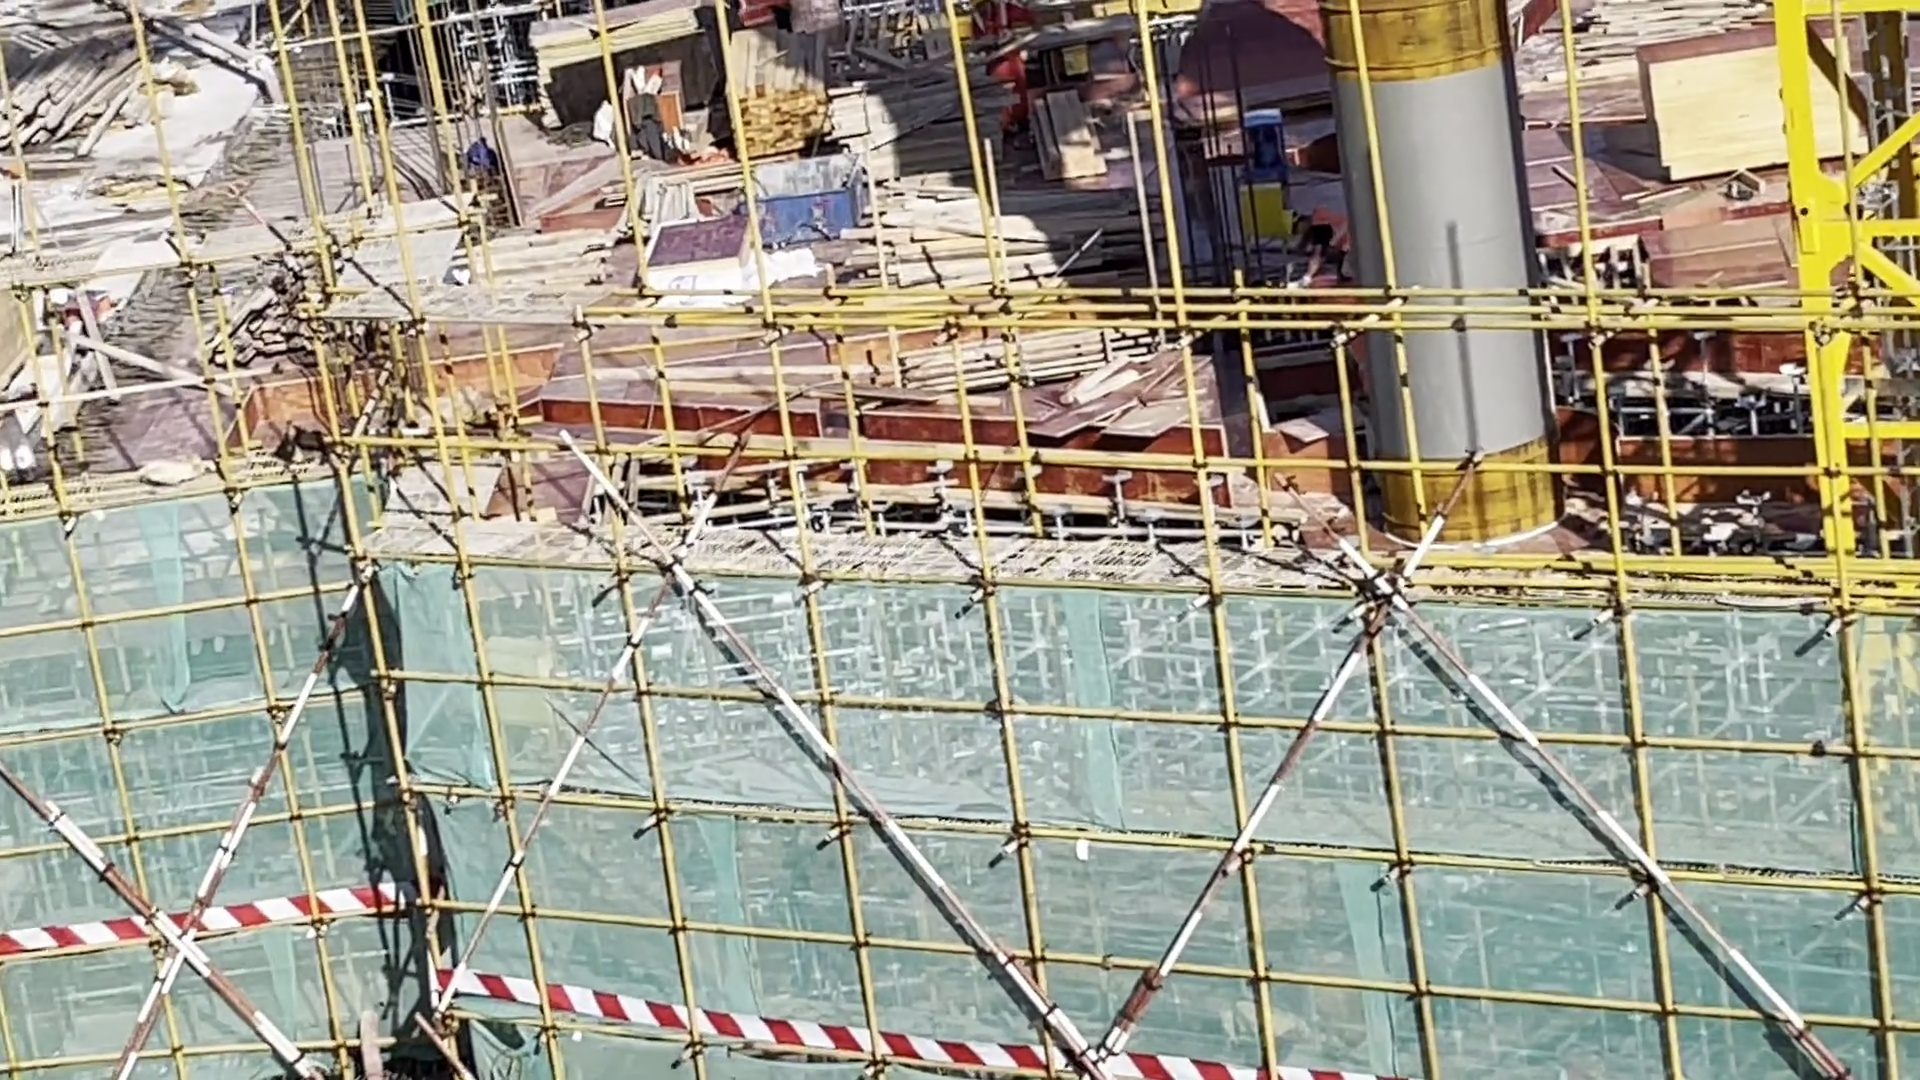board: (1001, 346, 1186, 444)
helmet: (1270, 205, 1302, 255)
hopper: (729, 155, 882, 250)
person: (1275, 209, 1362, 290)
vest: (973, 8, 1037, 108)
wood: (4, 39, 133, 155)
